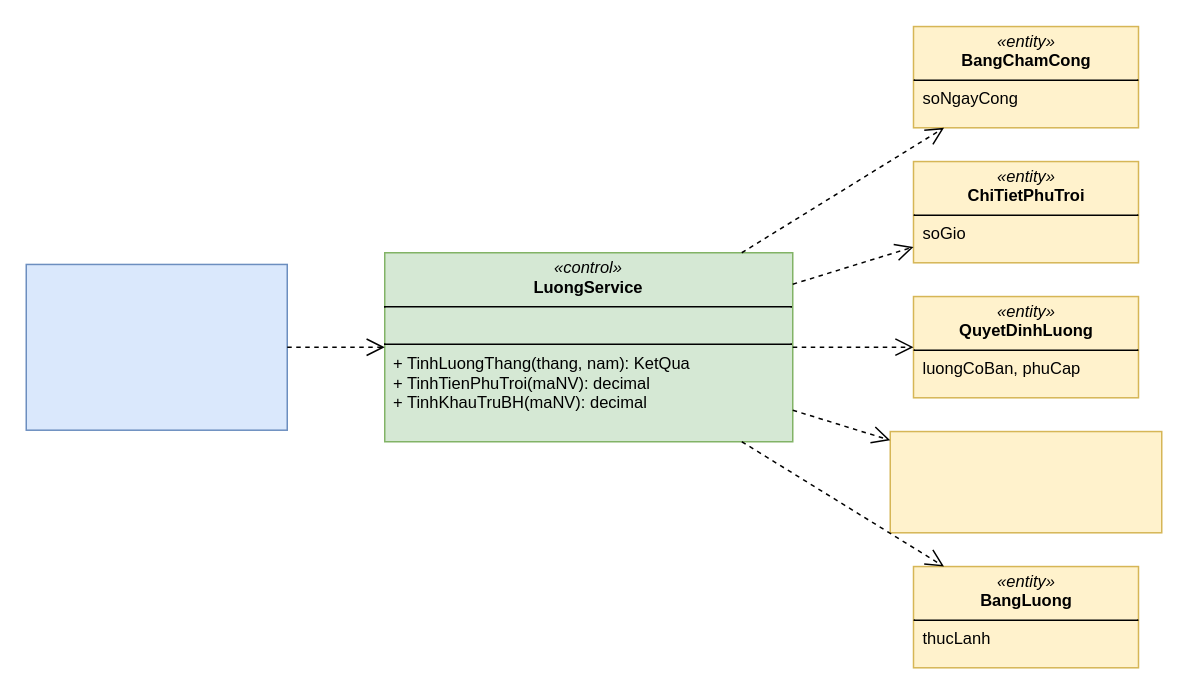
The diagram is 1188 pixels wide and 695 high, and some of its shapes have lost their labels. The shapes that lost their labels are listed below. From the top down, each one's centre as x and y in pixels, then its label:
At point 156,346: "«boundary» FrmTinhLuong - cboThang, cboNam - dgvBangLuong - btnTinhLuong_Click()".
At point 1025,481: "«entity» QuyetDinhKhenThuong soTien".
